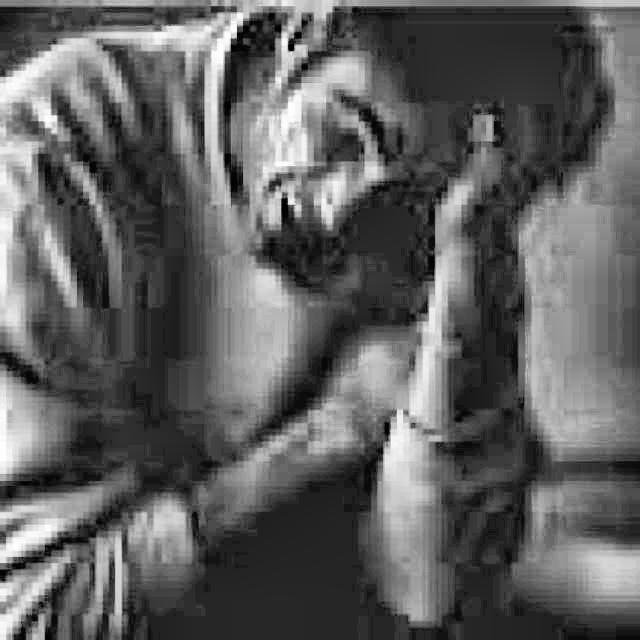sad: (240, 63, 451, 274)
